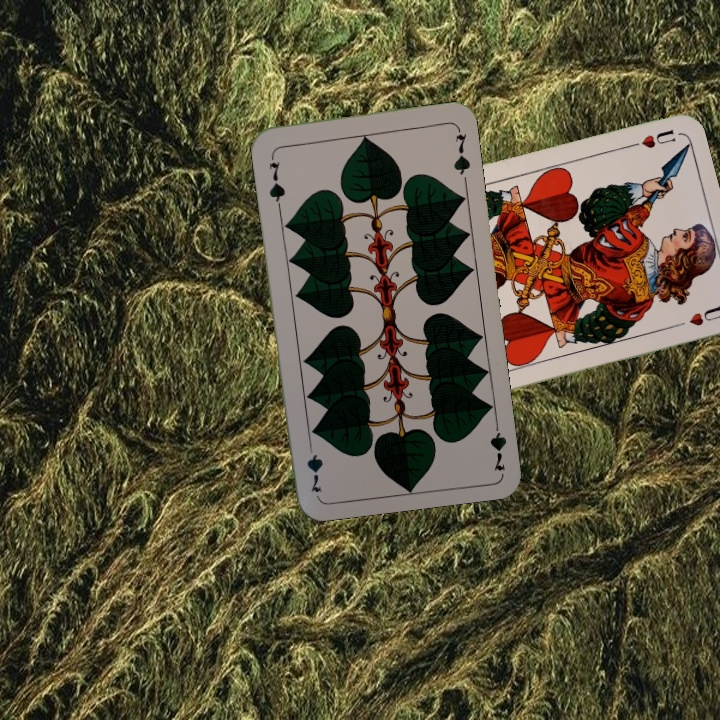G7: (486, 413, 509, 473), (265, 158, 288, 208)
HU: (620, 125, 678, 151)
